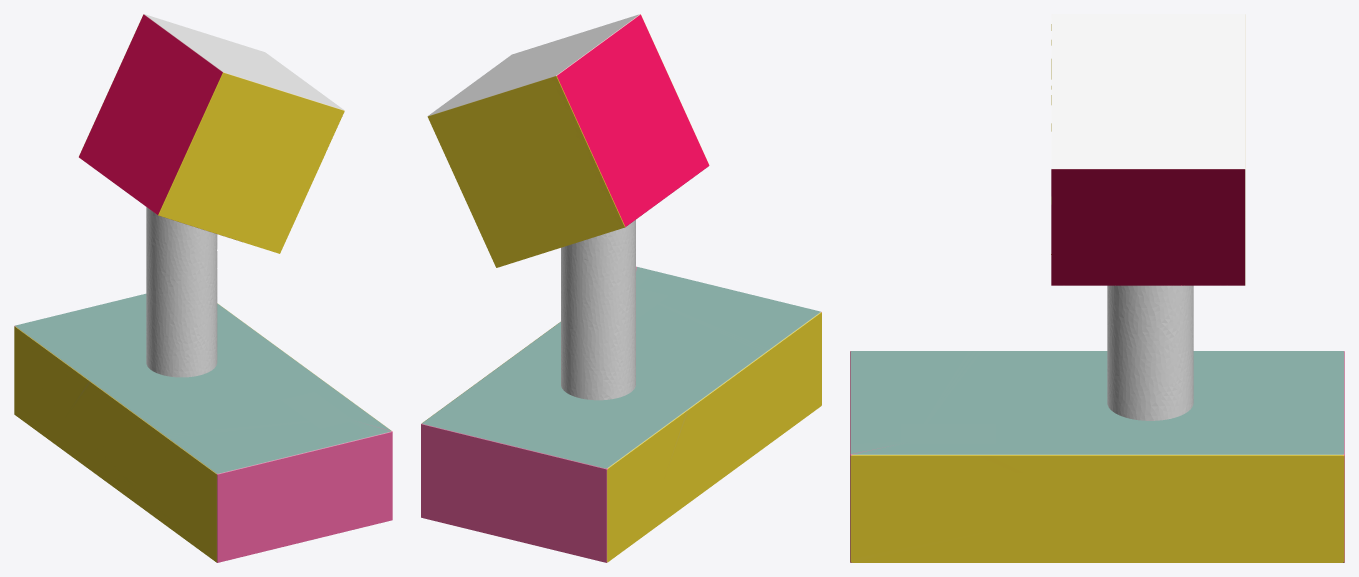
The model's file is GEO_Stock_05_LOD1.glb.
The picture shows the model from 3 angles, left to right: view 1: azimuth 30°, elevation 25°; view 2: azimuth 150°, elevation 25°; view 3: azimuth 270°, elevation 25°; orthographic projection. The views are drawn at different scales.
Parts seen in each view (by area): view 1: Box (×2), Cylinder; view 2: Box (×2), Cylinder; view 3: Box (×2), Cylinder.
Boxes of the visible parts, x1=… form: Box (×2): x1=14, y1=14, x2=392, y2=562; Cylinder: x1=146, y1=207, x2=217, y2=377; Box (×2): x1=421, y1=14, x2=821, y2=562; Cylinder: x1=561, y1=220, x2=635, y2=400; Box (×2): x1=850, y1=14, x2=1344, y2=562; Cylinder: x1=1107, y1=285, x2=1193, y2=420.
Bounding box in the file's own units: 1.09 × 2.03 × 1.83.
